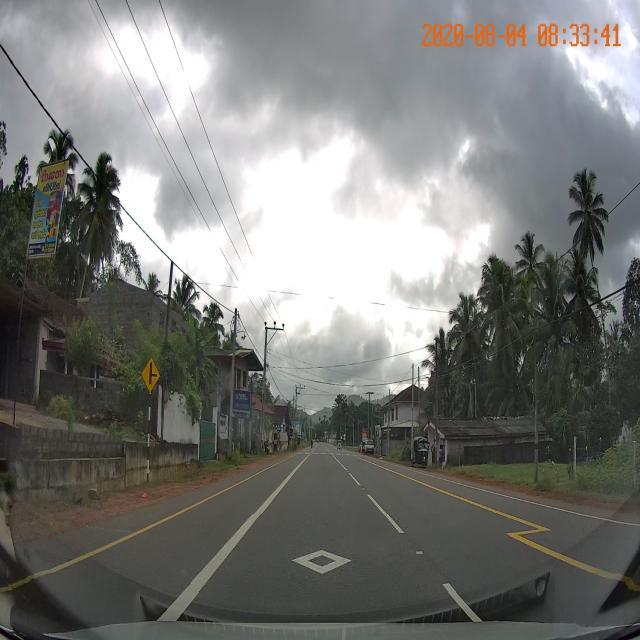diamond: (190, 515, 461, 592)
